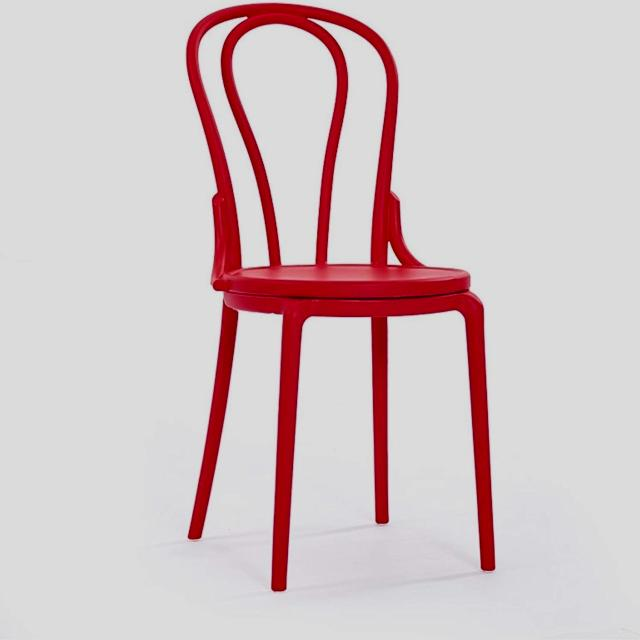Chair: (179, 5, 506, 595)
